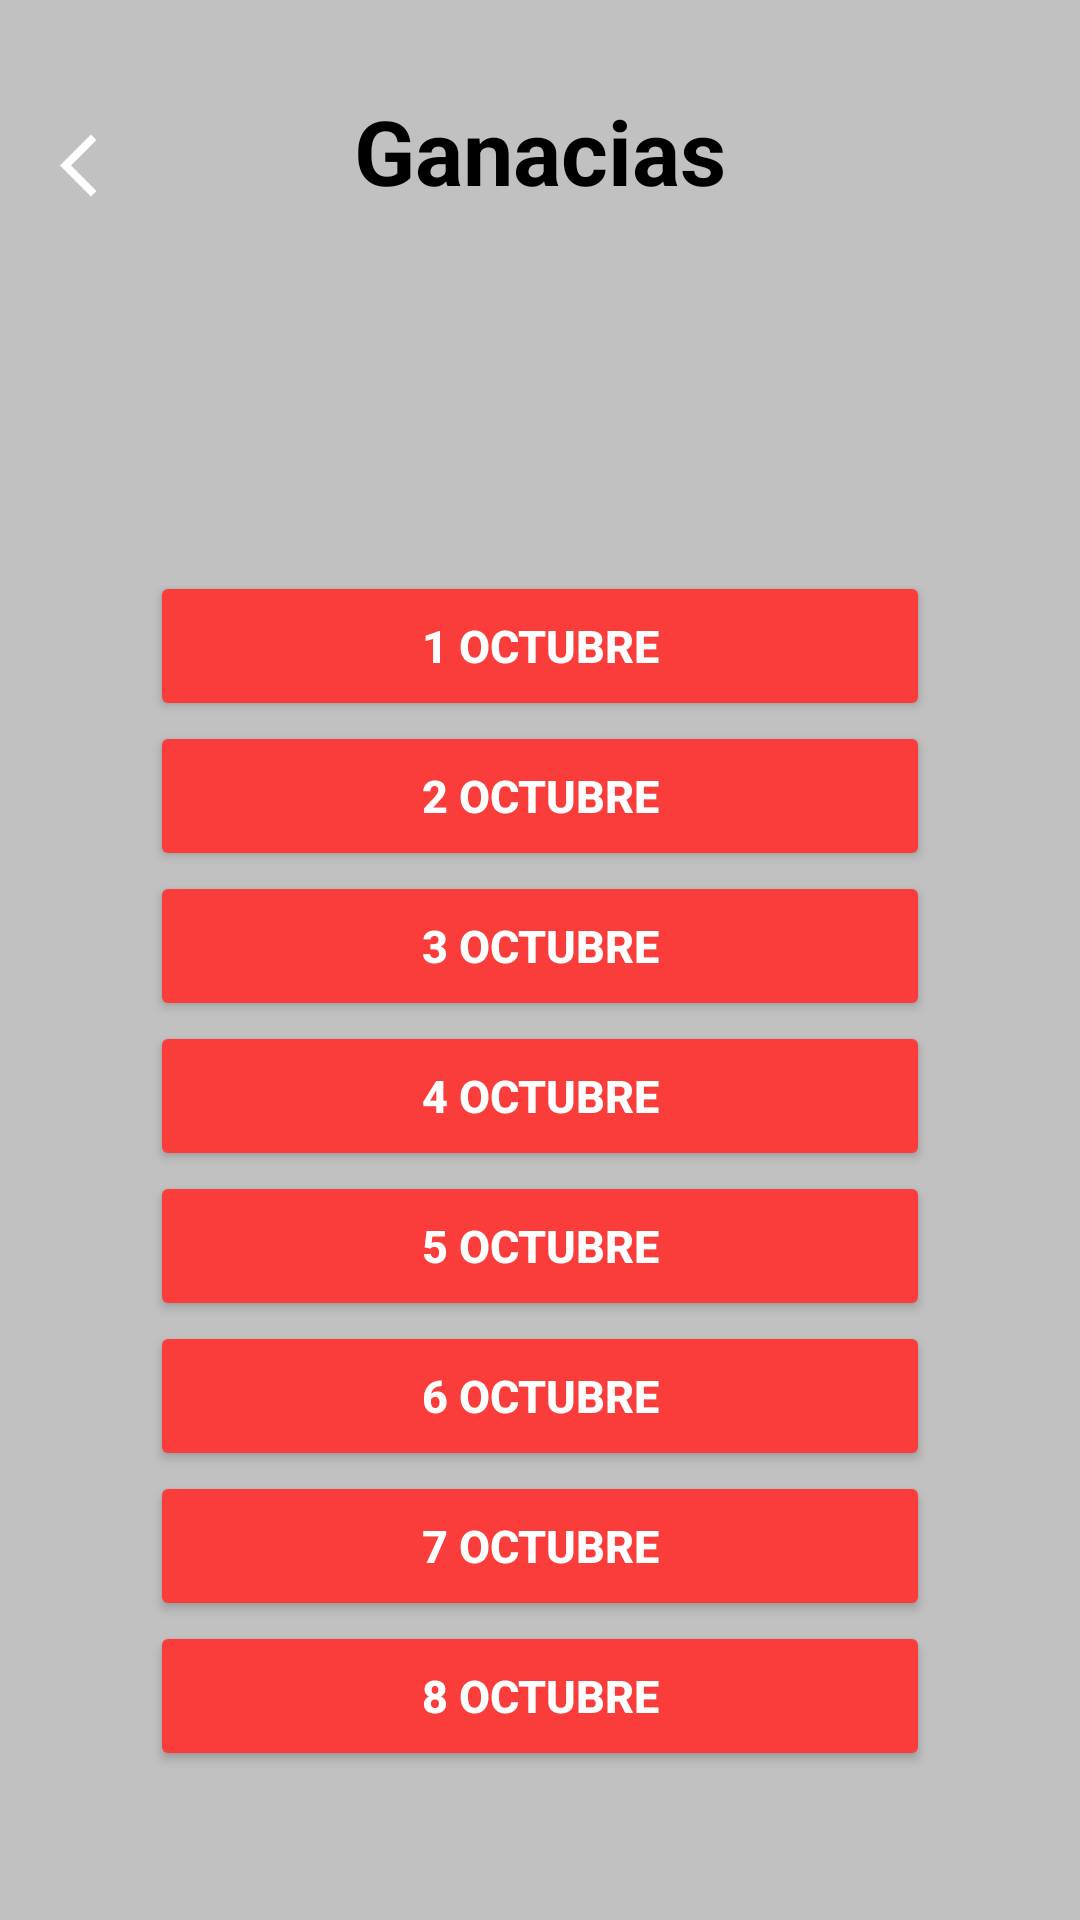

Locate icon controls on the screen. Image size 1080×1920, boxes as (x1,y1,x2,y2).
arrow back: (60,135,96,196)
